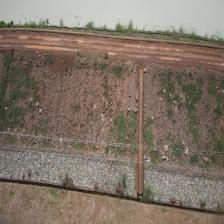rock toe: (0, 147, 137, 197), (144, 163, 224, 211)
slope drain: (138, 68, 143, 195)
